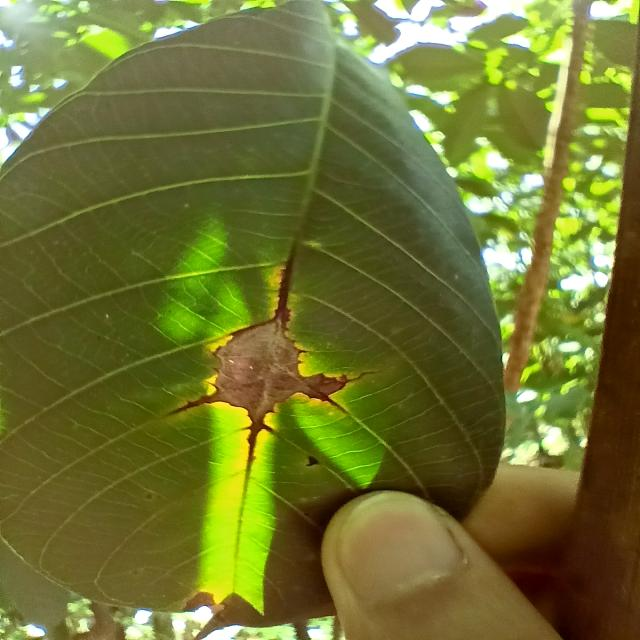Corynespora: (269, 247, 296, 326), (239, 421, 273, 462), (310, 388, 350, 416), (168, 396, 210, 416)
Leaf-Blight: (215, 319, 342, 421)
